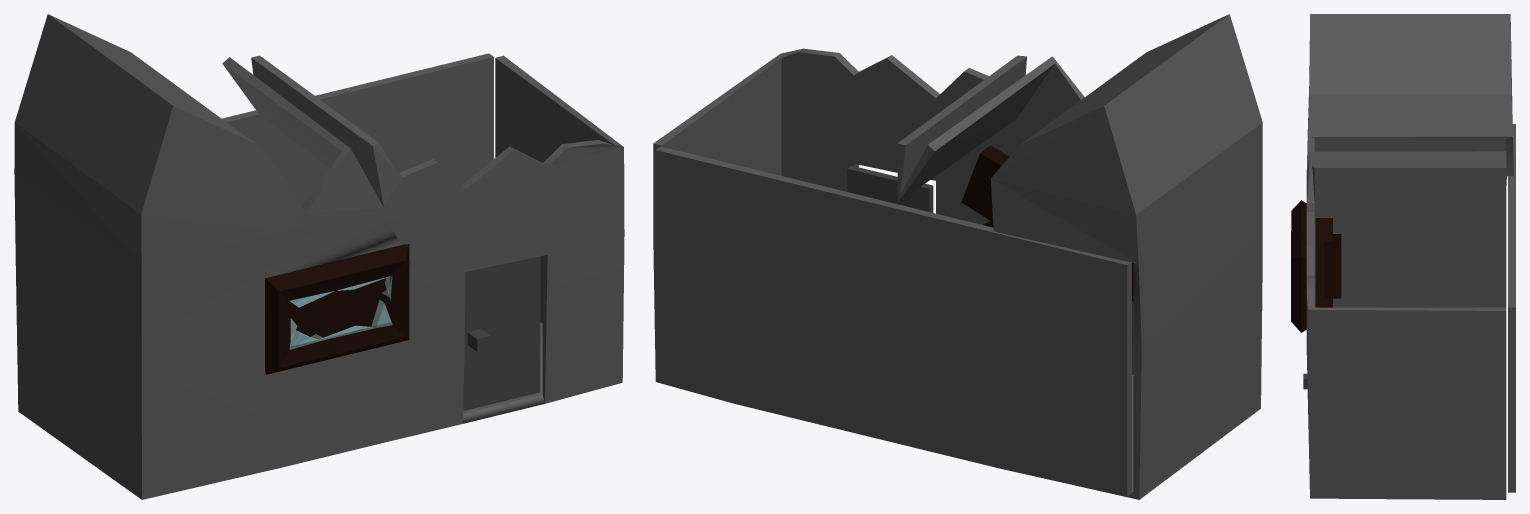
File: home1@out_open_s.FBX
3 views of the same model, side by side, from view 1: azimuth 30°, elevation 25°; view 2: azimuth 150°, elevation 25°; view 3: azimuth 270°, elevation 25° (orthographic). The views are drawn at different scales.
Parts seen in each view (by area): view 1: Box001, Object002, Object001; view 2: Box001, Object002, Object001; view 3: Box001, Object002.
Boxes of the visible parts, x1,y1,x2,y2 form: Box001: (14,14,624,499); Object002: (222,53,493,296); Object001: (463,256,540,410); Box001: (653,14,1262,499); Object002: (655,146,1131,496); Object001: (847,165,933,212); Box001: (1291,14,1513,499); Object002: (1508,124,1515,492).
Bounding box in the file's own units: 56.92 × 43.51 × 28.4.
